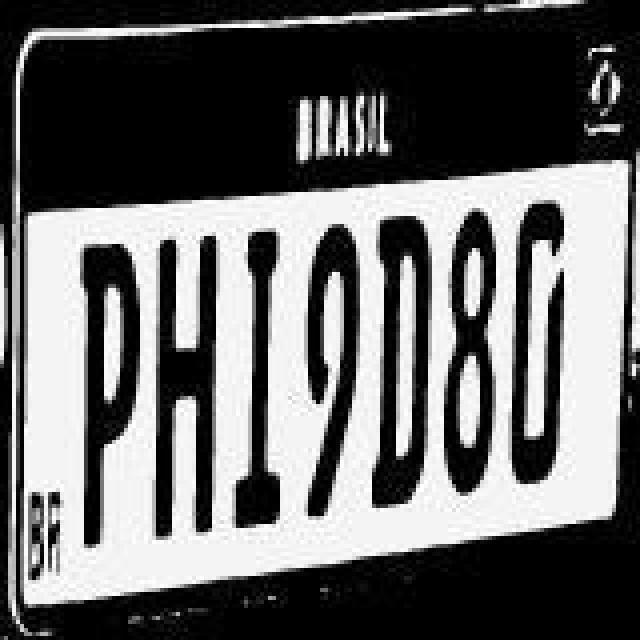8: (438, 210, 506, 494)
9: (292, 226, 372, 526)
D: (368, 210, 440, 494), (512, 200, 576, 488)
H: (150, 230, 226, 538)
I: (228, 230, 300, 538)
P: (76, 242, 140, 558)
